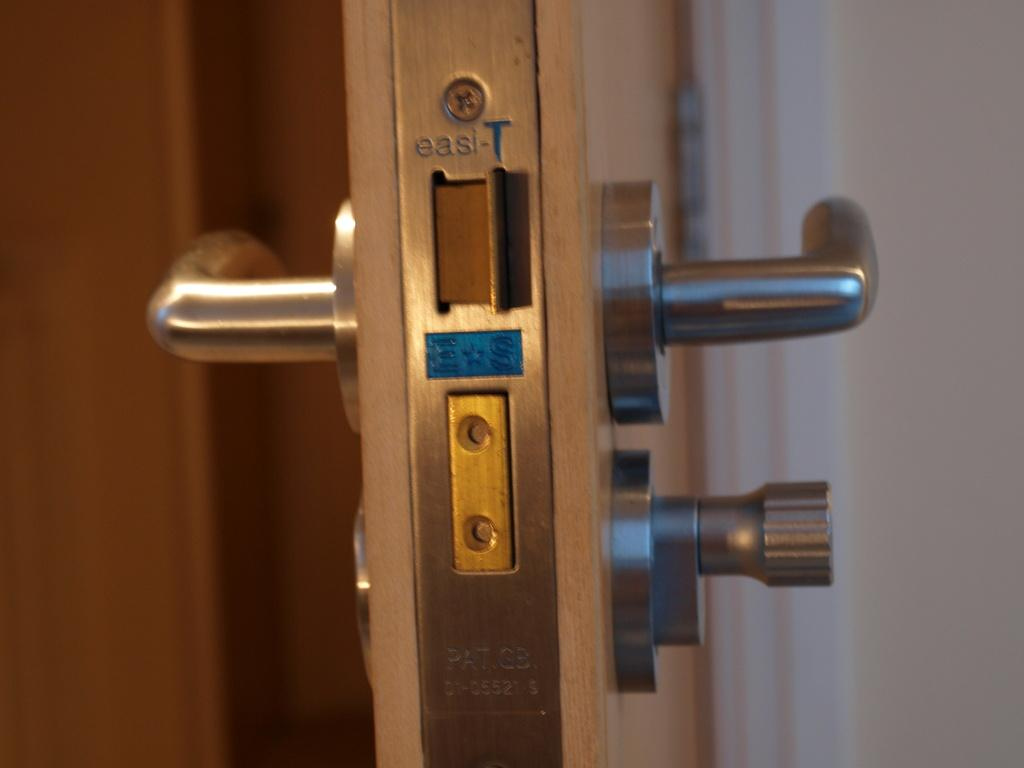handle: (636, 204, 882, 358), (150, 216, 346, 380)
